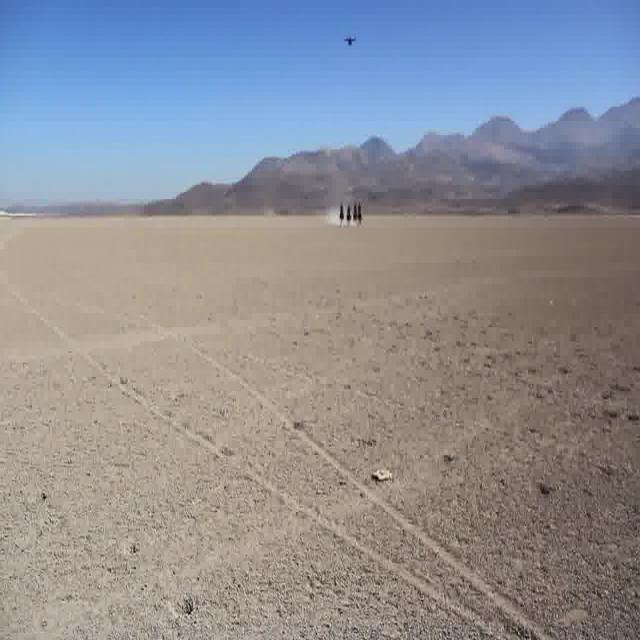drones: (337, 30, 360, 51)
